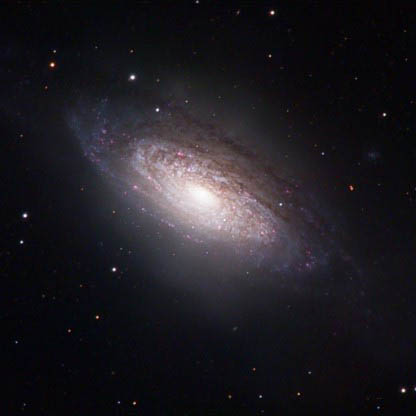NGC 3521: (59, 56, 365, 313)
